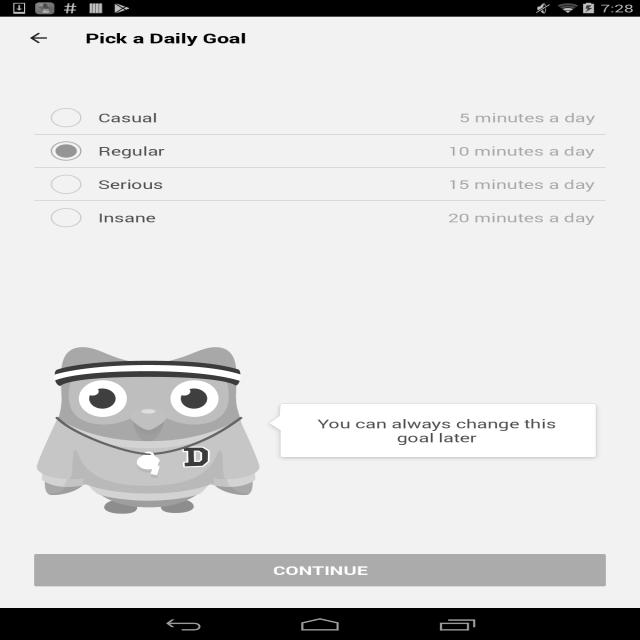ImageButton: (9, 17, 68, 59)
ImageView: (34, 327, 263, 534)
RadioButton: (34, 134, 170, 168), (34, 168, 169, 201), (34, 101, 163, 134), (34, 201, 162, 234)
TextView: (262, 399, 606, 462), (34, 554, 606, 586), (448, 172, 595, 195), (448, 206, 595, 229), (448, 140, 595, 162), (459, 106, 595, 129), (86, 29, 247, 47)
